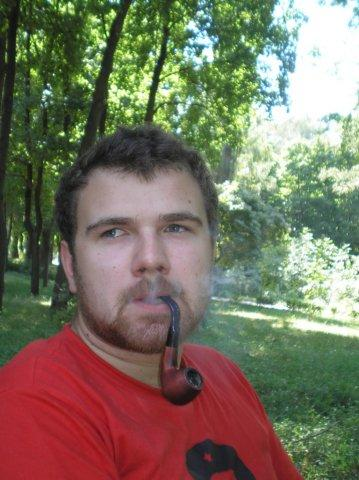trubka: (159, 295, 204, 405)
